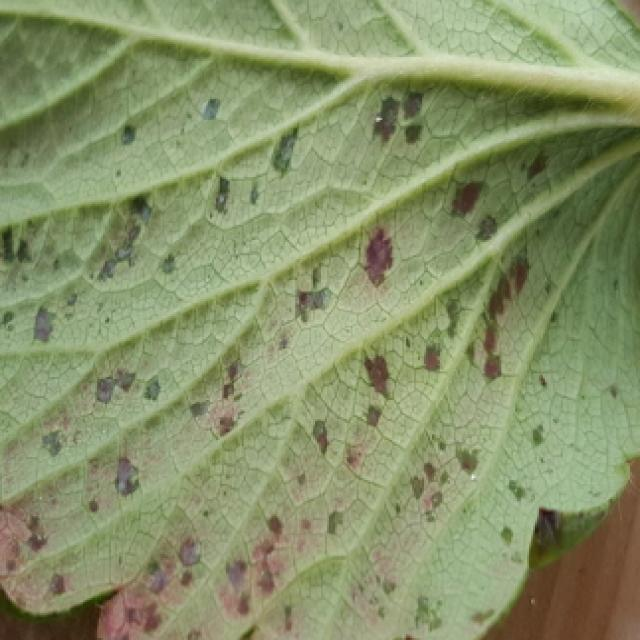Angular Leafspot: (0, 76, 640, 640)
